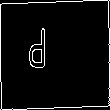P_S: (45, 29, 65, 81)
